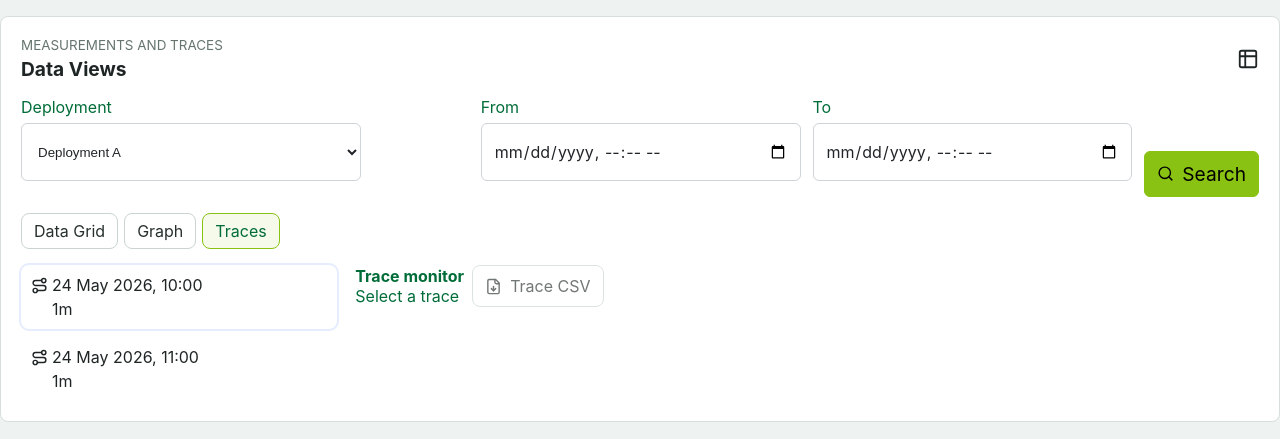
Portal dashboard request ownership › keeps trace detail owned by the latest selected trace
The image size is (1280, 439).
Click the button "24 May 2026, 11:00 1m": (179, 369) [21,337,337,401]
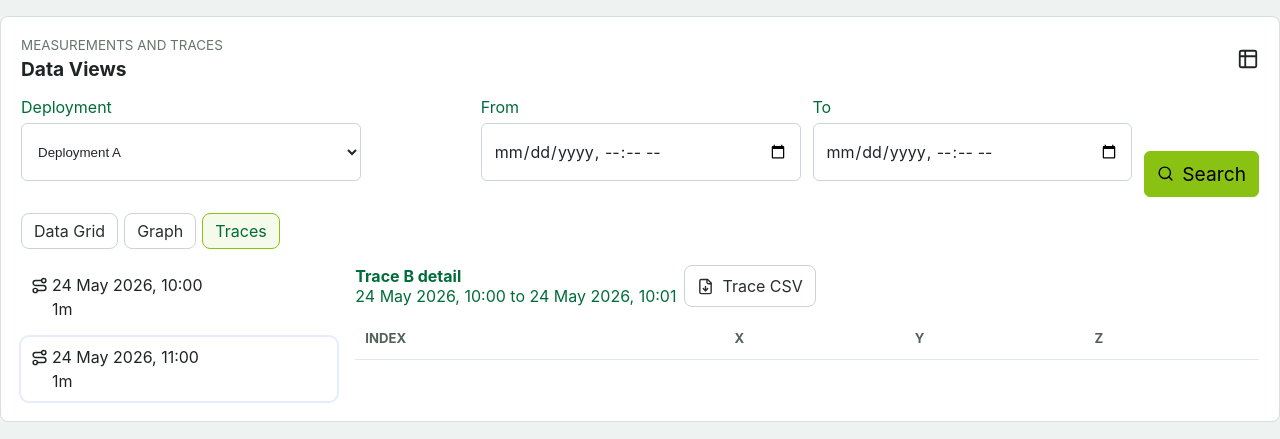
Check: the heading "Trace B detail" is shown, box [355,266,461,286]
